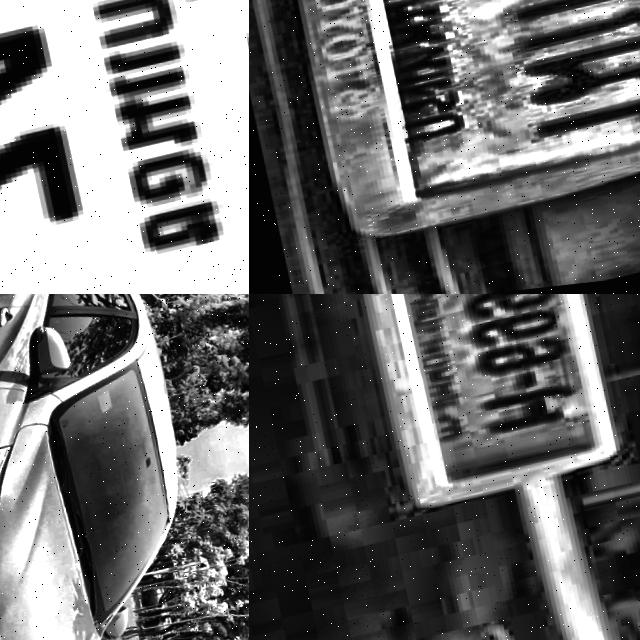license-plate: (249, 0, 640, 257), (315, 294, 640, 536), (0, 0, 249, 294)
